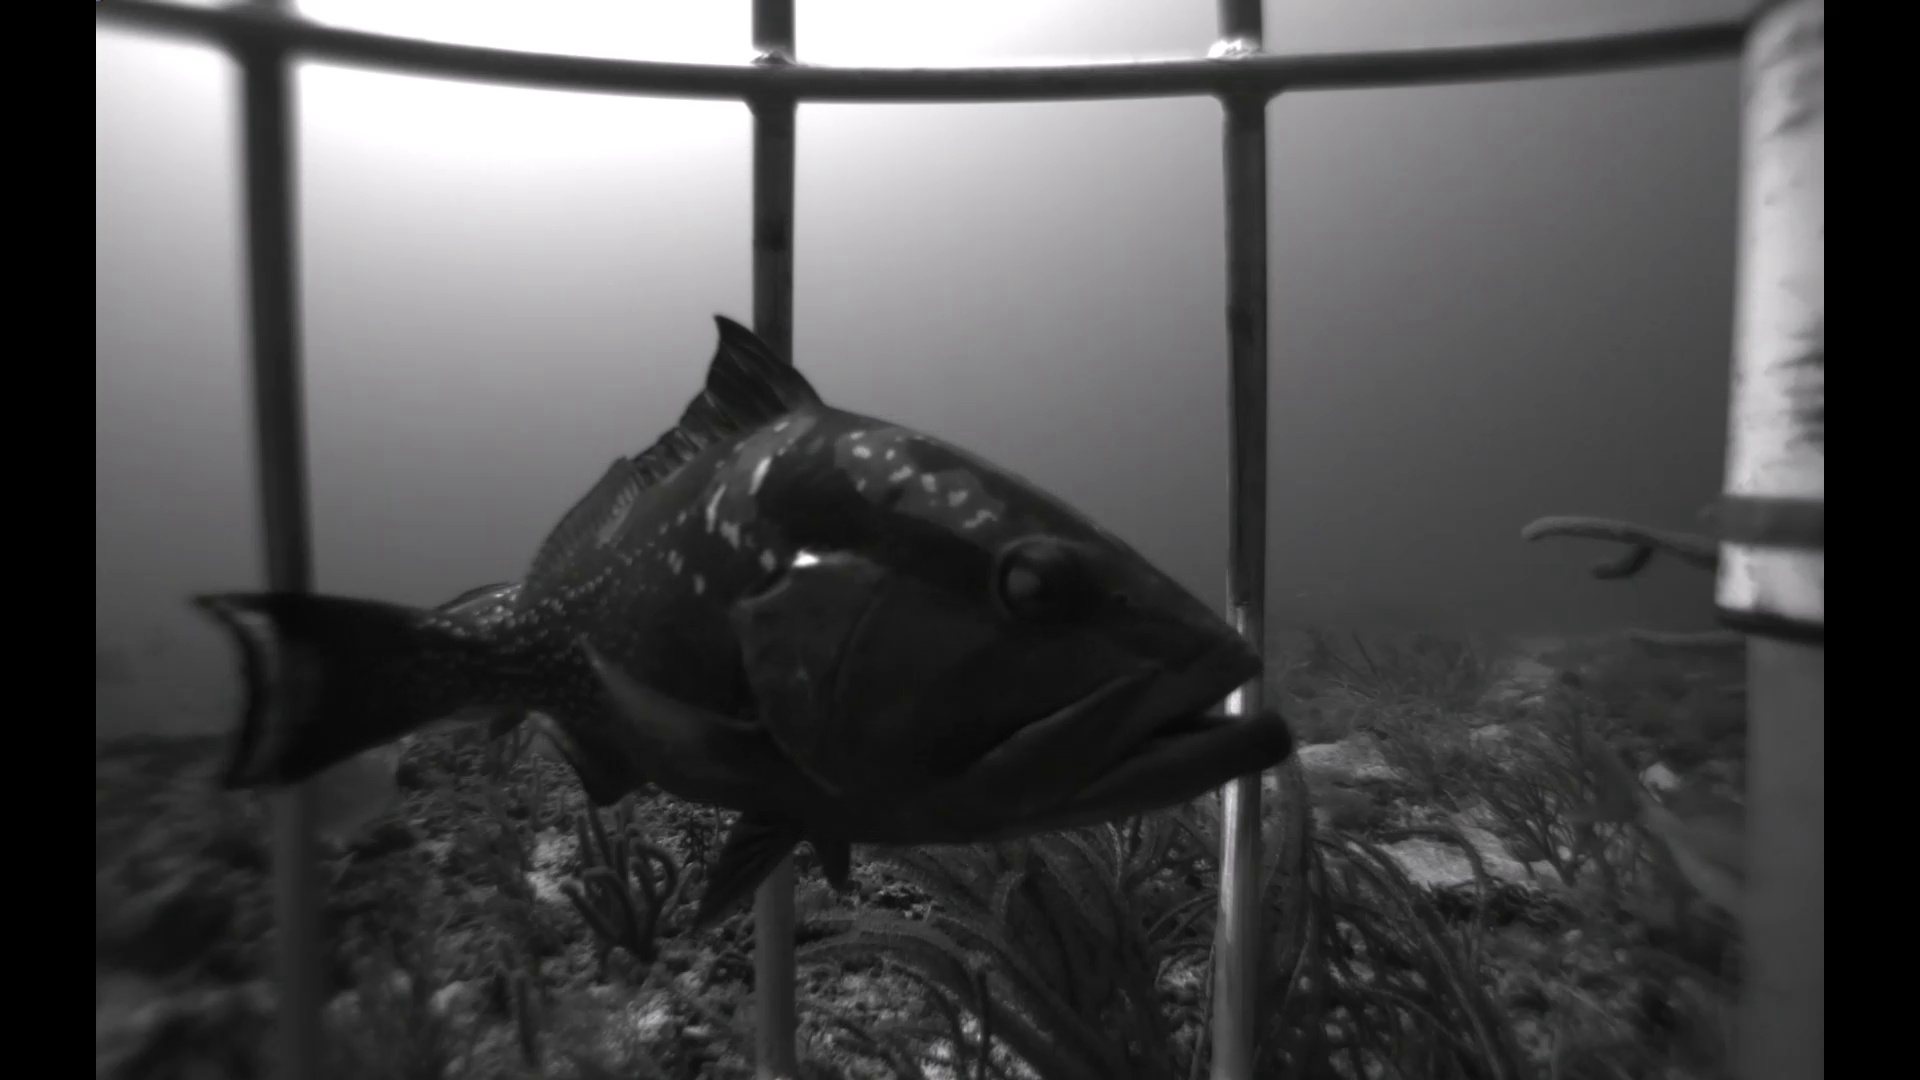CALAMUSNODOSUS-170210608: (1536, 686, 1753, 938), (301, 738, 404, 858)
EPINEPHELUSMORIO-170021211: (174, 301, 1294, 920), (417, 567, 542, 746)
